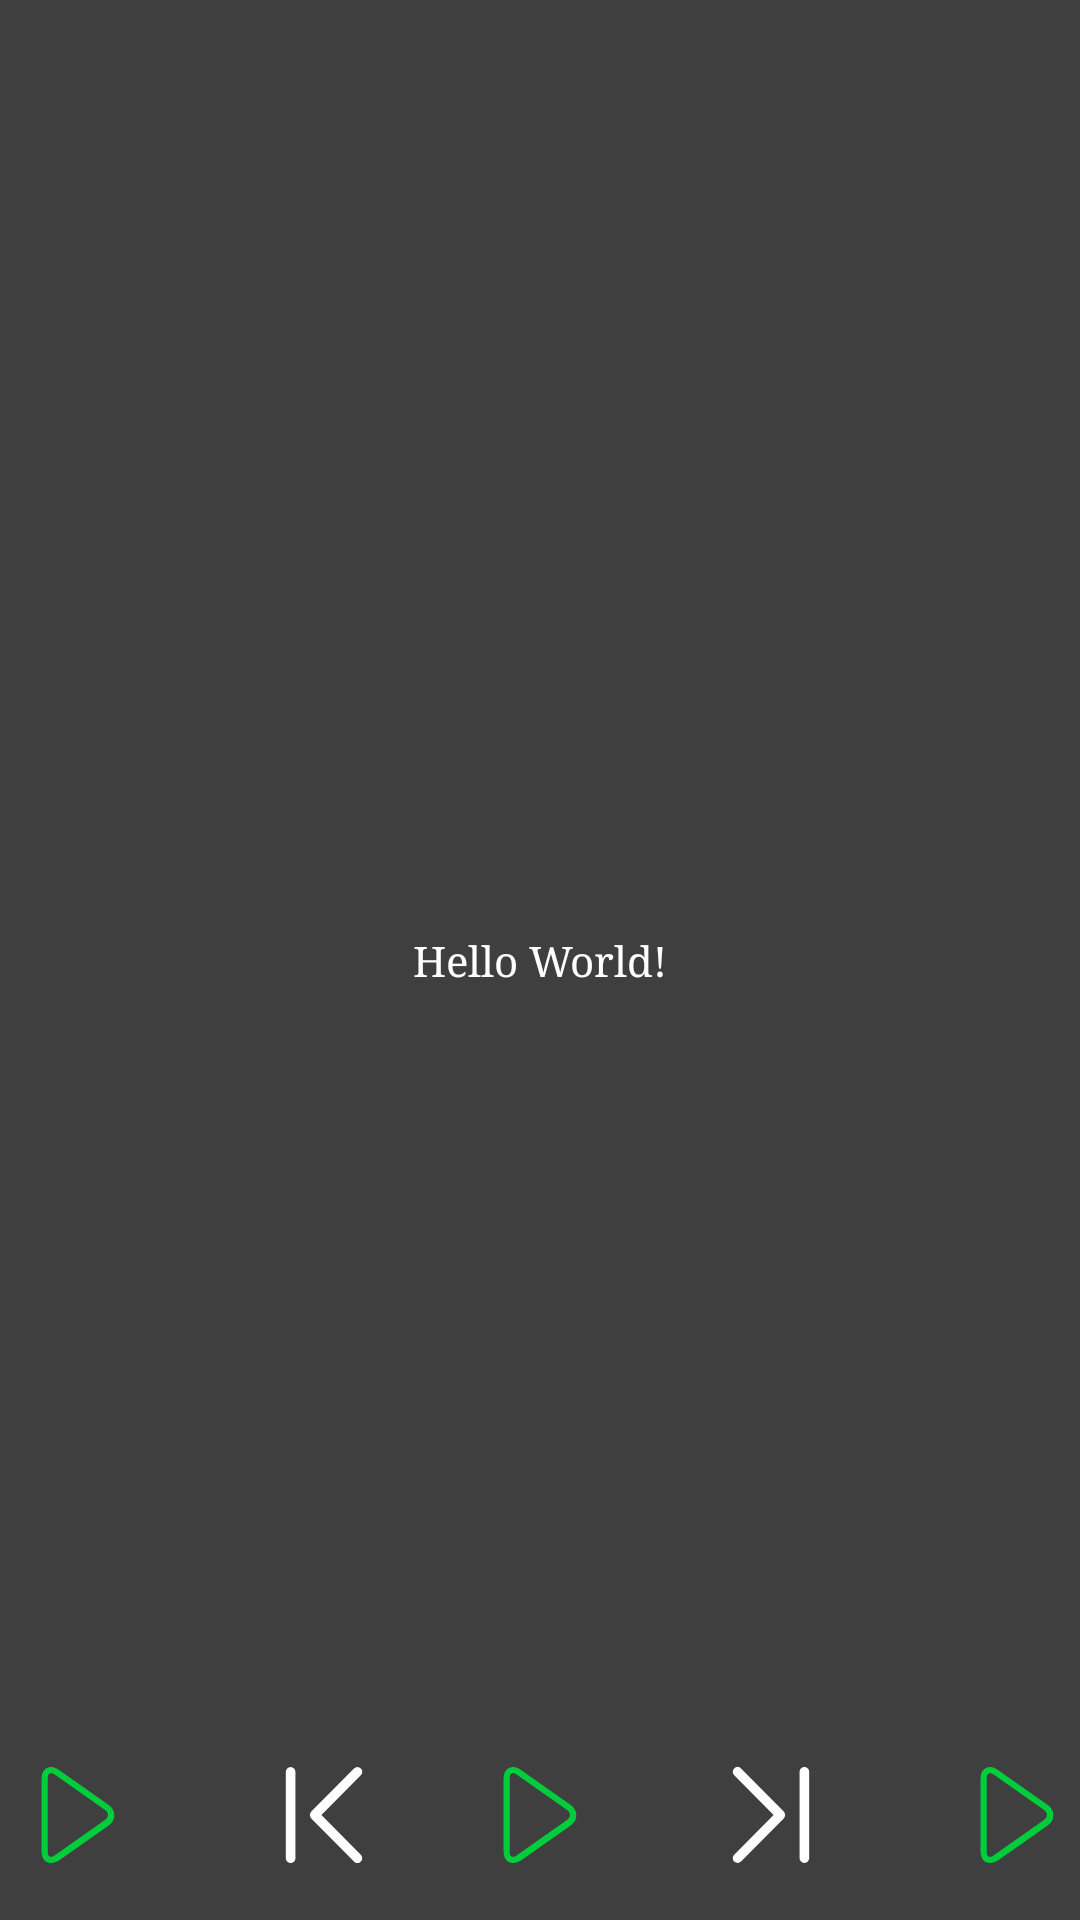

Named icons in this screenshot (1080*1920) and their centers, (x,y):
play: (78,1815), (540,1815), (1017,1815)
